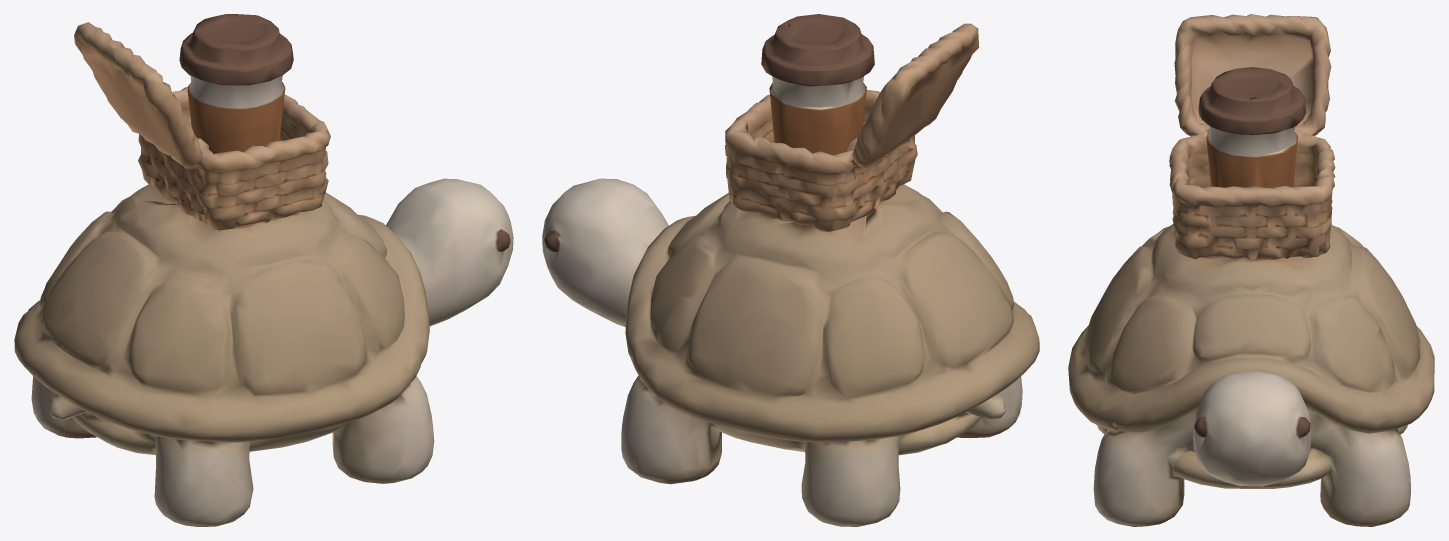
The model's file is tortoise-v2.glb.
3 views of the same model, side by side, from view 1: azimuth 30°, elevation 25°; view 2: azimuth 150°, elevation 25°; view 3: azimuth 270°, elevation 25° (orthographic). The views are drawn at different scales.
Visible parts, largest first — view 1: tripo_node_3923fe52-67b0-4974-9cd3-3356f73b211f; view 2: tripo_node_3923fe52-67b0-4974-9cd3-3356f73b211f; view 3: tripo_node_3923fe52-67b0-4974-9cd3-3356f73b211f.
Part boxes in pixels (bbox=[...]): tripo_node_3923fe52-67b0-4974-9cd3-3356f73b211f: bbox=[14, 14, 513, 526]; tripo_node_3923fe52-67b0-4974-9cd3-3356f73b211f: bbox=[542, 14, 1039, 526]; tripo_node_3923fe52-67b0-4974-9cd3-3356f73b211f: bbox=[1068, 14, 1434, 526].
Size of the model in its own units: 1 by 0.8889 by 0.7285.
Materials: 1 (1 with a texture image).
